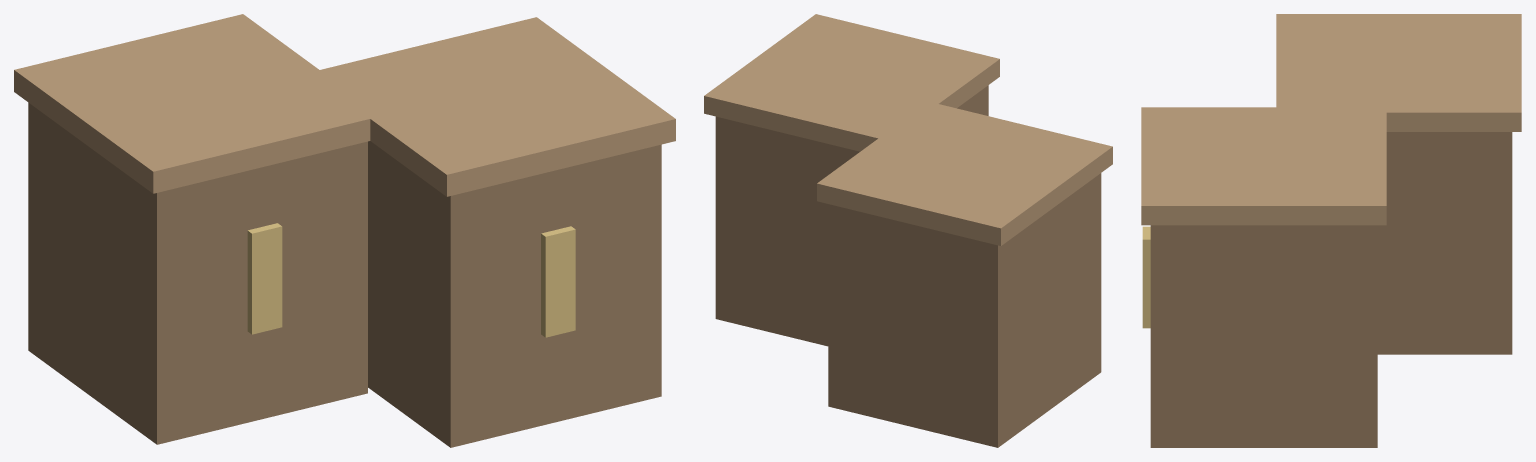
Rendered from RushMarketCrates.glb.
The picture shows the model from 3 angles, left to right: view 1: azimuth 30°, elevation 25°; view 2: azimuth 150°, elevation 25°; view 3: azimuth 270°, elevation 25°; orthographic projection. The views are drawn at different scales.
Parts seen in each view (by area): view 1: RushMarketCrates; view 2: RushMarketCrates; view 3: RushMarketCrates.
Part boxes in pixels (left/top/right/bottom): RushMarketCrates: left=14, top=14, right=675, bottom=447; RushMarketCrates: left=704, top=14, right=1112, bottom=447; RushMarketCrates: left=1141, top=14, right=1521, bottom=447.
Size of the model in its own units: 1.48 by 0.885 by 1.24.
